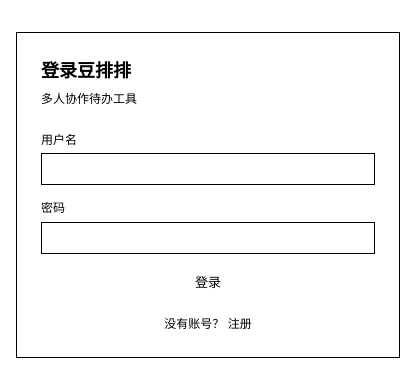
Test: 登录页（/login） › 服务端返回 INVALID_CREDENTIALS 应显示「用户名或密码不正确」
This screenshot has width=417, height=391.
In the field labelled "用户名": (208, 169) [41,153,375,185], type "alice"
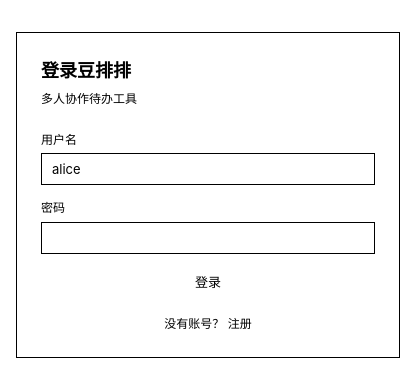
In the password field labelled "密码": (208, 238) [41,222,375,254], type "pass1234"
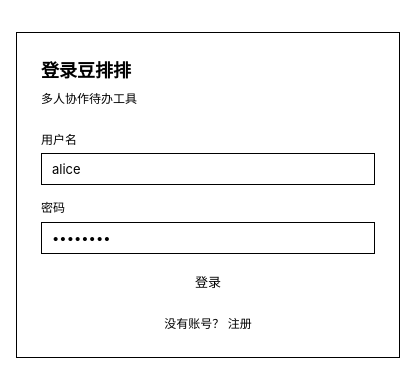
Click the button "登录": (208, 282) [41,266,375,298]
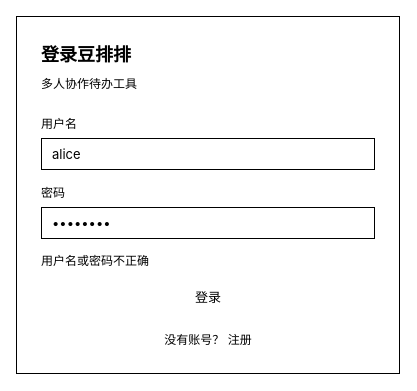
Expected: the text "用户名或密码不正确" is shown, [41,253,149,268]
